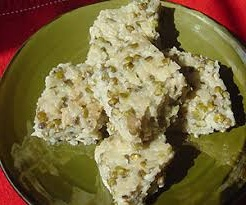kiribath: (85, 28, 189, 147), (95, 125, 174, 204), (165, 47, 233, 134), (36, 61, 106, 143)
